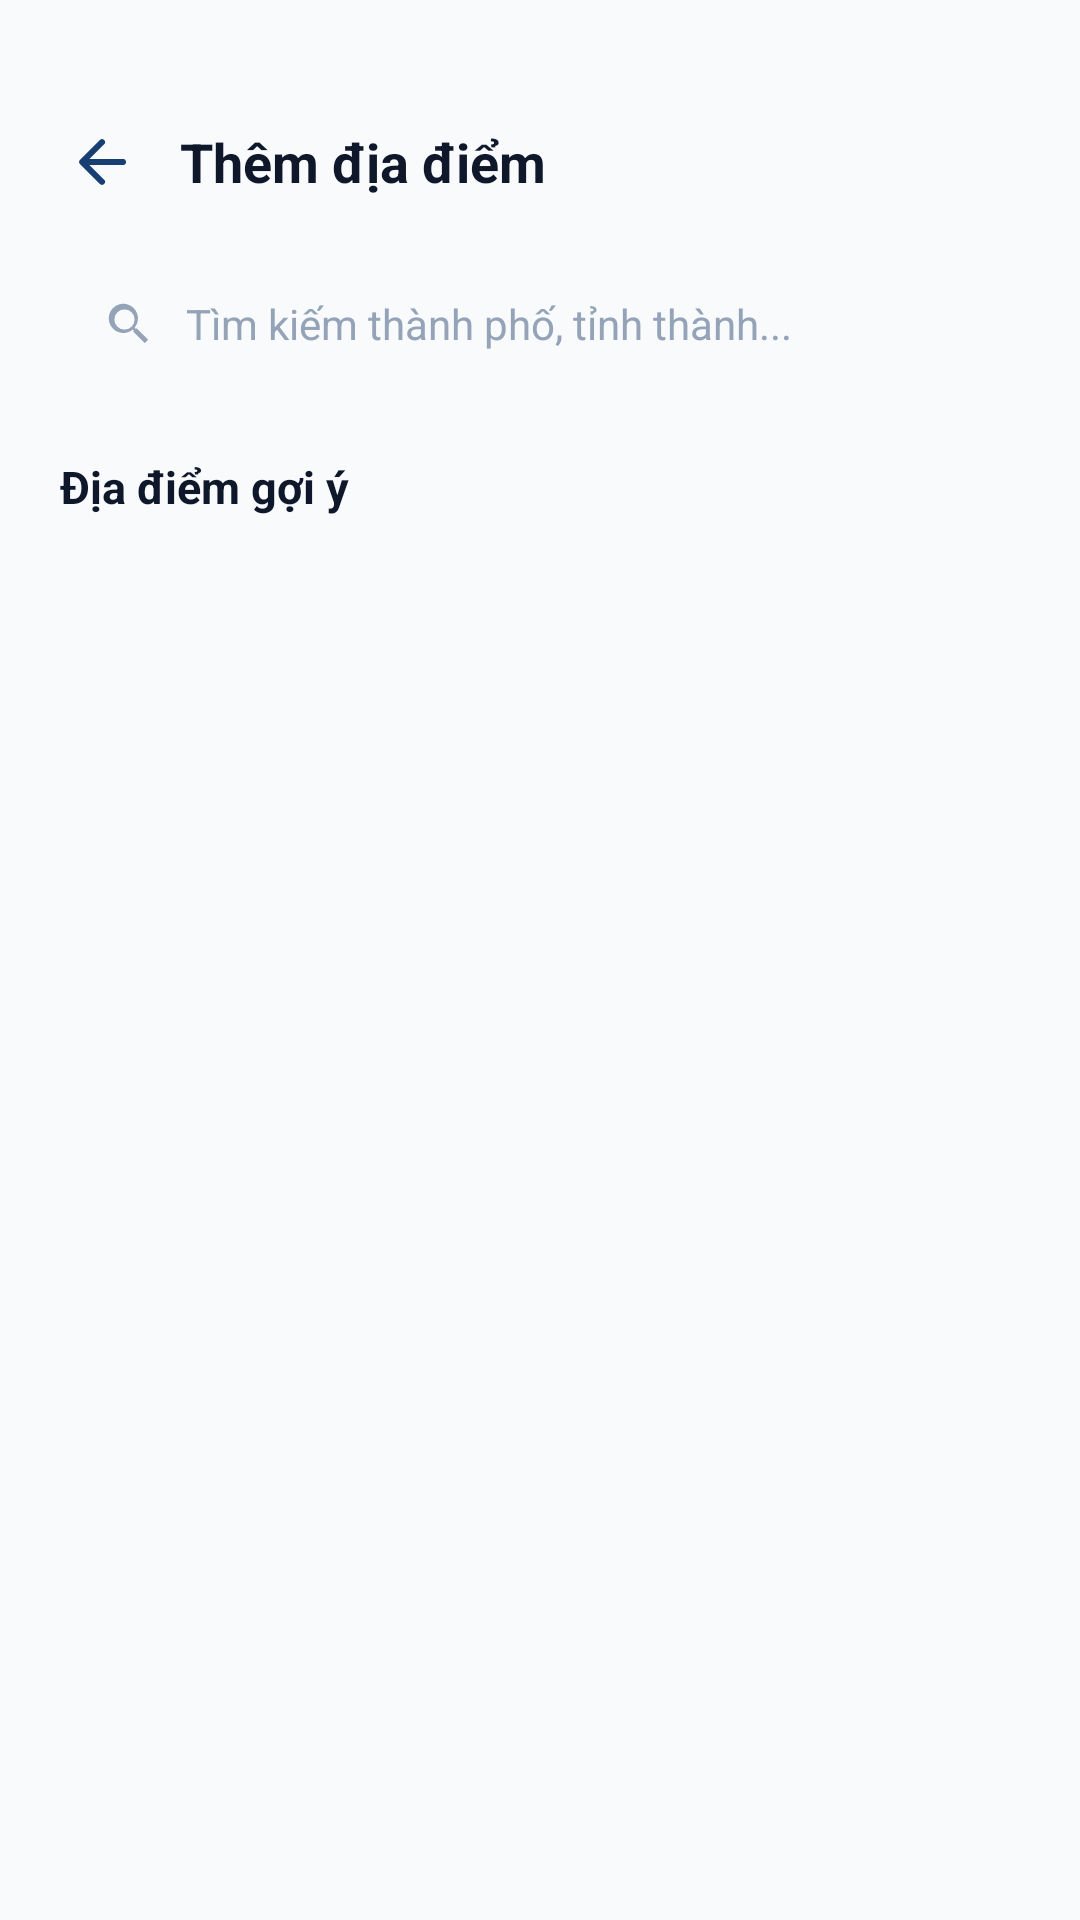

Icon click points for this 1080×1920 phone screenshot, format (x=x, y=y):
Back: (x=102, y=162)
Search icon: (x=128, y=323)
